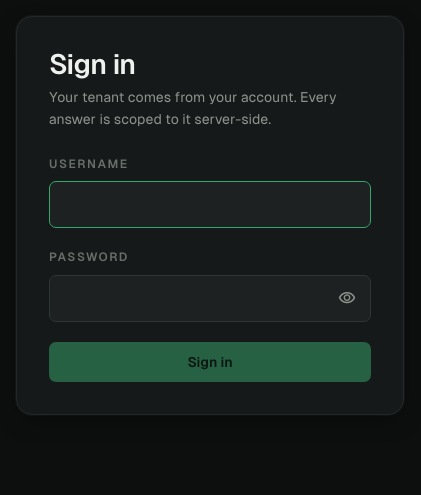
Test case: LoginView › shows an inline error on a 401 and stays logged out
This screenshot has width=421, height=495.
In the field labelled "Username": (210, 205) [49,181,371,228], type "acme_analyst"
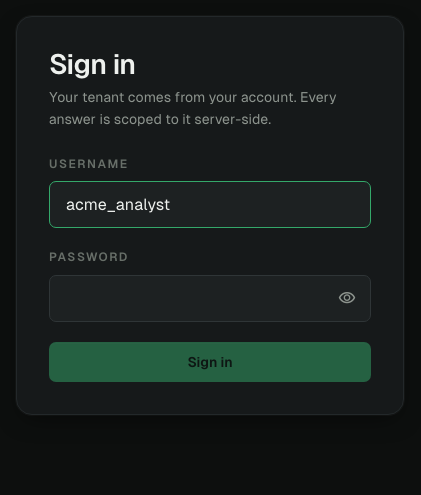
In the password field labelled "Password": (210, 298) [49,275,371,322], type "wrong"
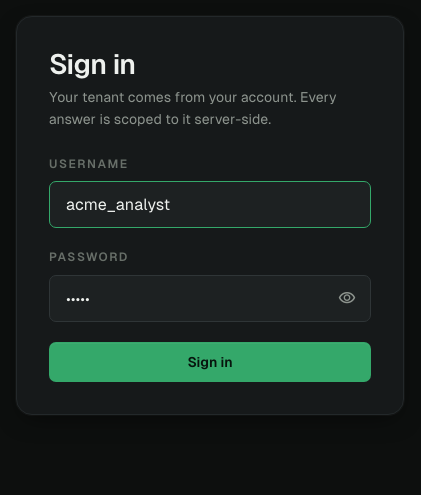
Click the button "Sign in": (210, 362) [49,342,371,382]
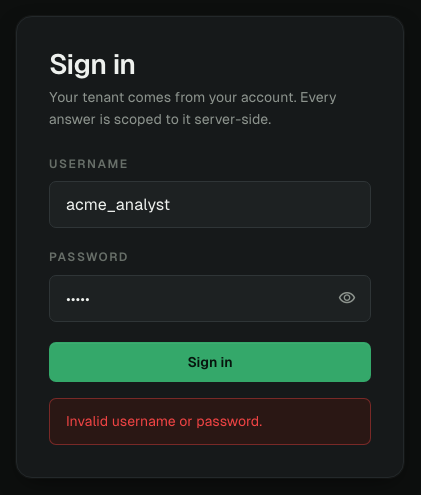
Expected: the message reads "Invalid username or password.", [66,413,262,429]
